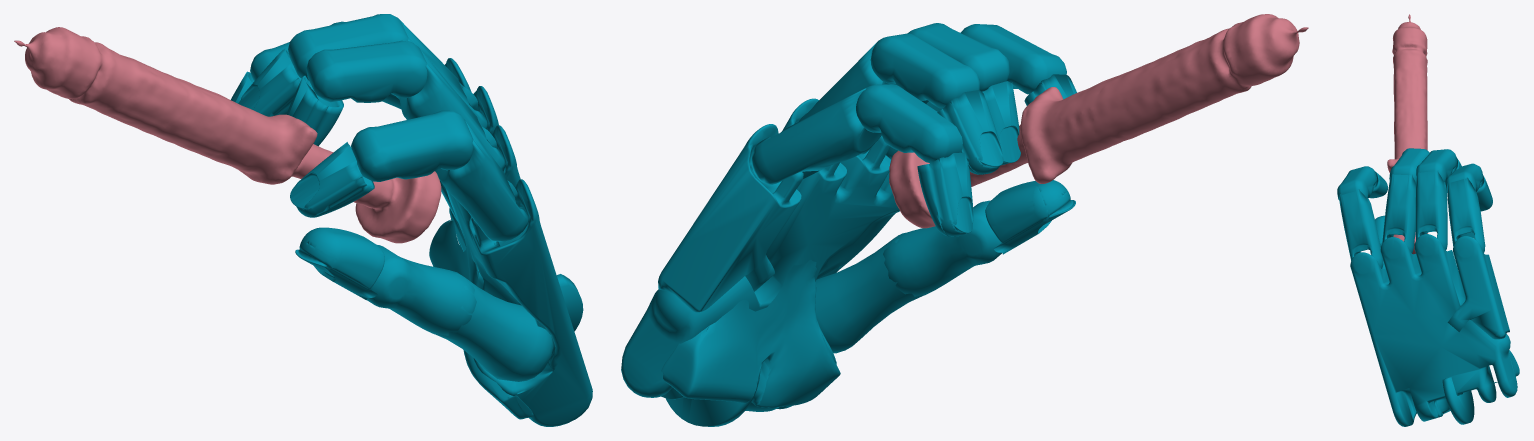
3 views of the same model, side by side, from view 1: azimuth 30°, elevation 25°; view 2: azimuth 150°, elevation 25°; view 3: azimuth 270°, elevation 25° (orthographic). The views are drawn at different scales.
Visible parts, largest first — view 1: world; view 2: world; view 3: world.
Part boxes in pixels (<box>): world: <box>14,14,592,426</box>; world: <box>621,14,1308,426</box>; world: <box>1337,14,1519,426</box>.
Bounding box in the file's own units: 0.2332 × 0.1883 × 0.1144.
